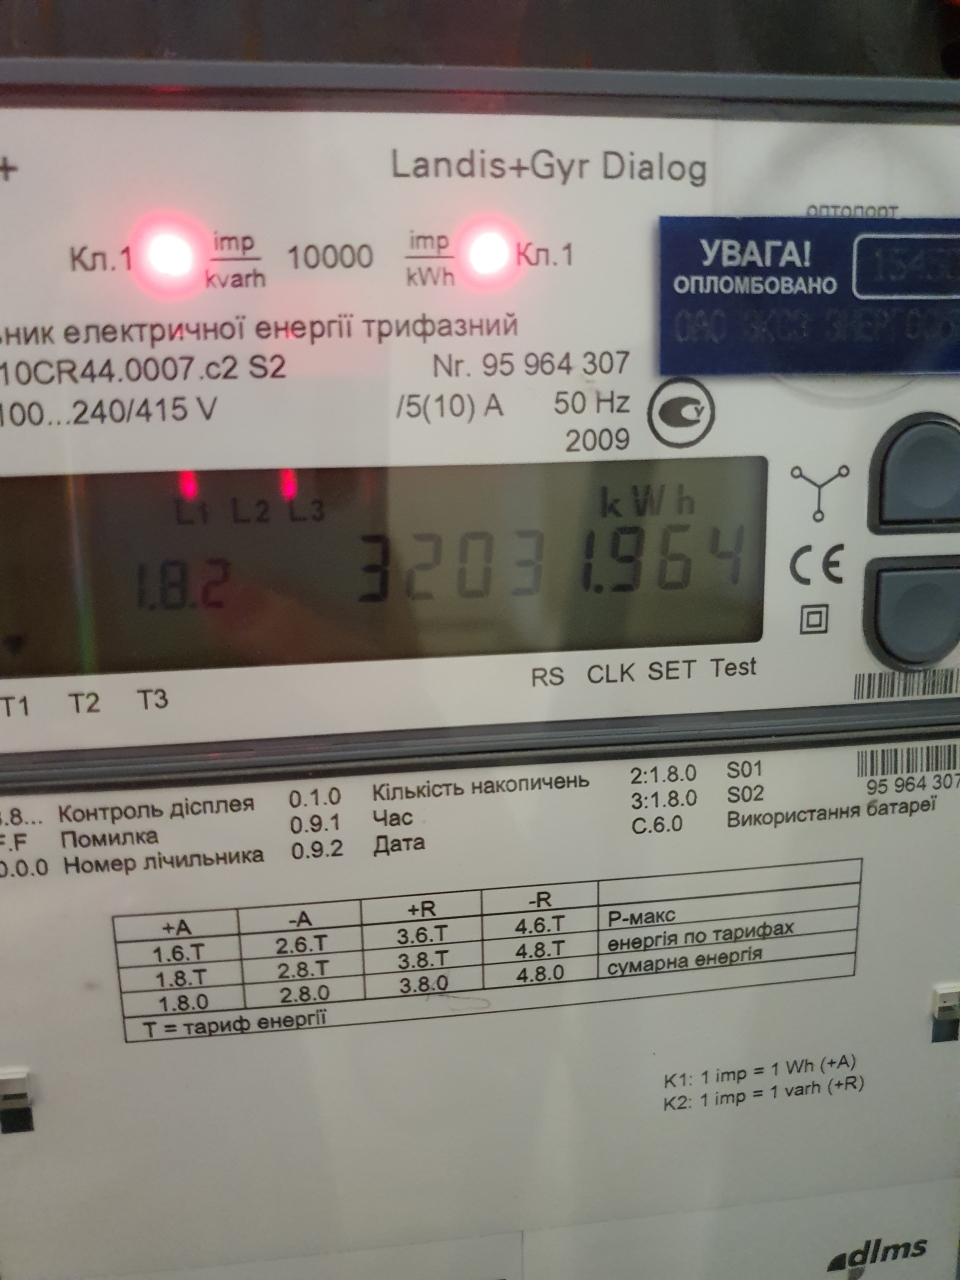screen: (0, 428, 796, 708)
